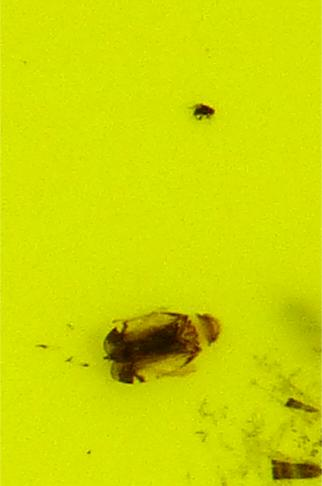Brachycera: (188, 100, 217, 123)
Hemiptera: (100, 309, 222, 386)
